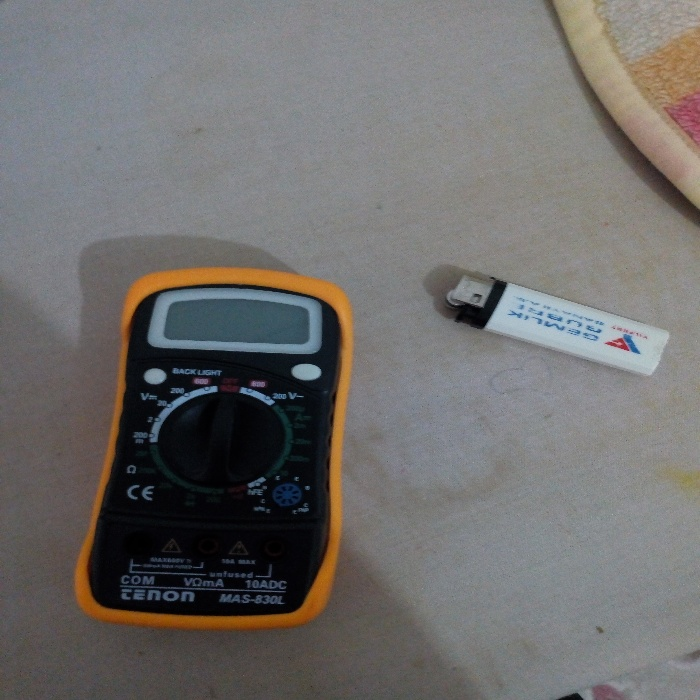multimetre: (42, 247, 382, 637)
